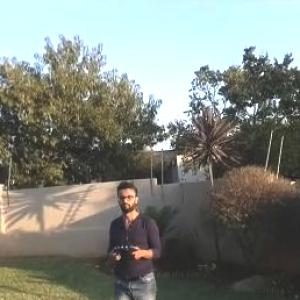follow: (105, 175, 166, 299)
